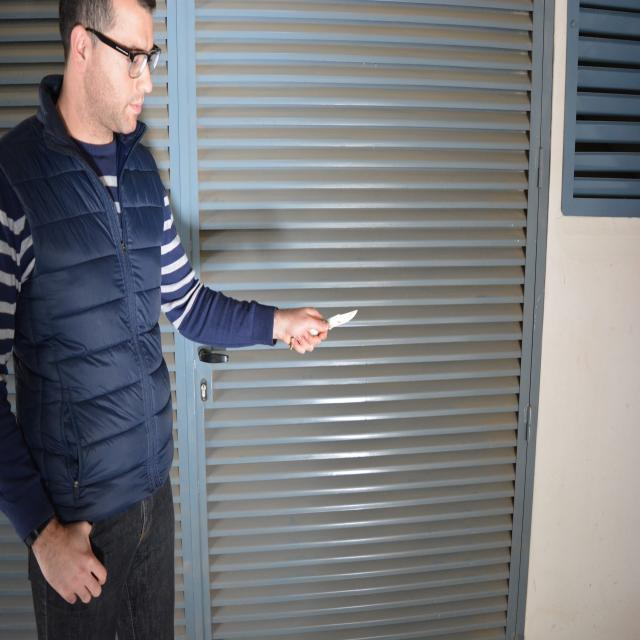knife: (323, 301, 359, 347)
